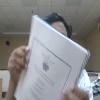notebook: (13, 14, 90, 99)
